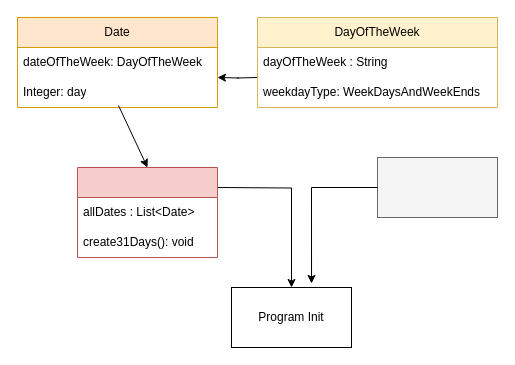
Some shapes in this 515 by 365 pixel diagram are drawn without their labels. The shapes that lost their labels are listed below. From the top down, each one's box as (x1, y1, x2, y2) in pixels, then its label:
(376, 156, 498, 218): Menus
(76, 166, 218, 258): December
